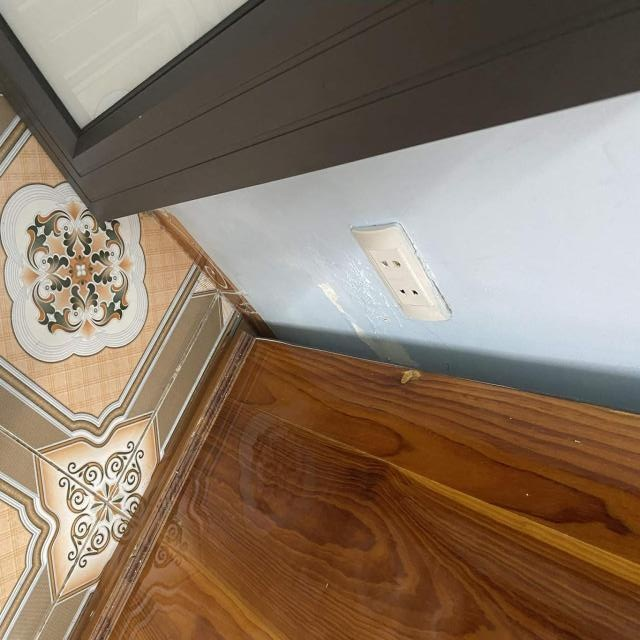outlet: (350, 222, 453, 321)
